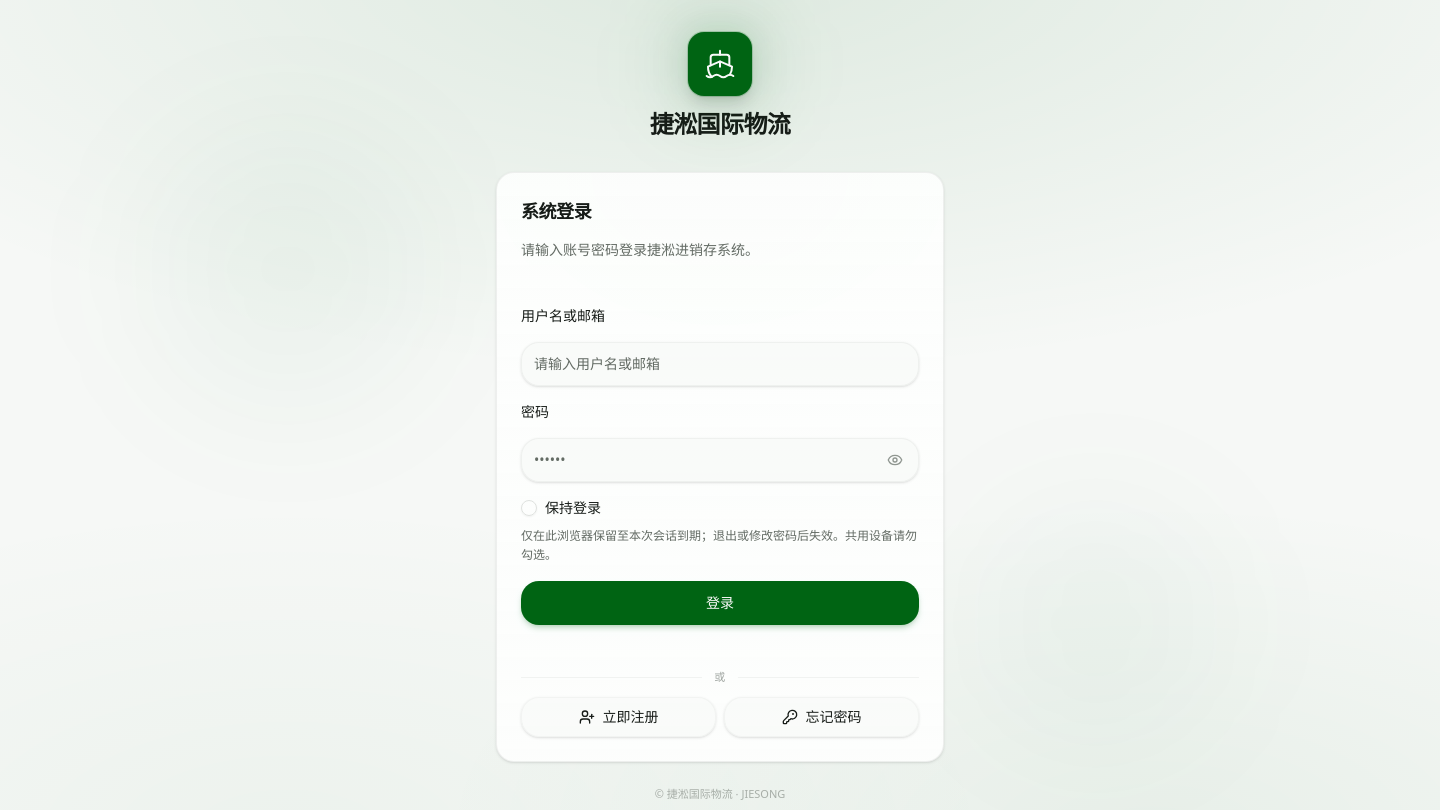
LoginPage 交互逻辑 › 后端连接失败时提示权威的 3001 端口
Expected: the button "登录" is enabled, [521,581,919,625]
Type "admin" into the field labelled "用户名或邮箱" at (720, 364), box [521,342,919,386]
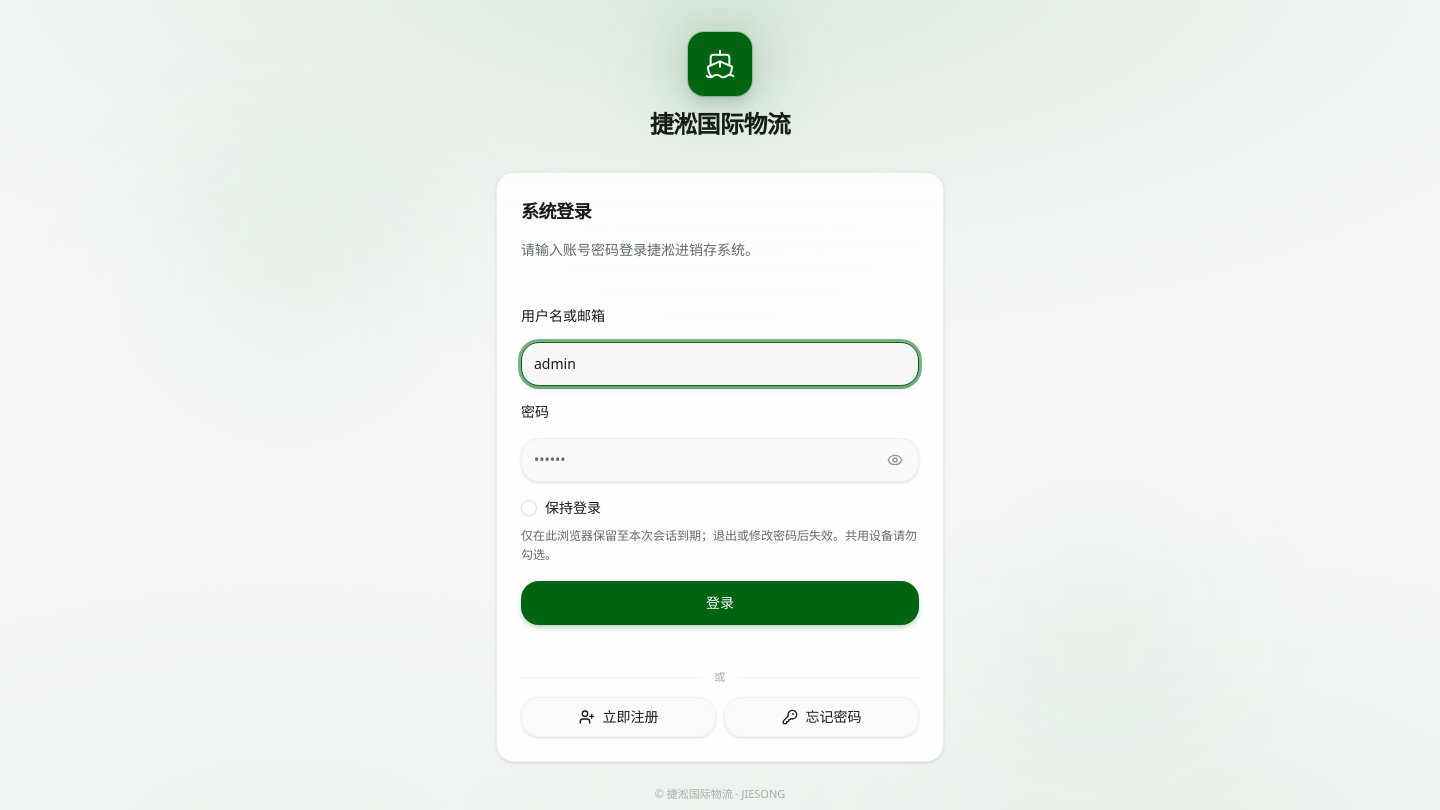
Type "123456" into the password field labelled "密码" at (720, 460), box [521,438,919,482]
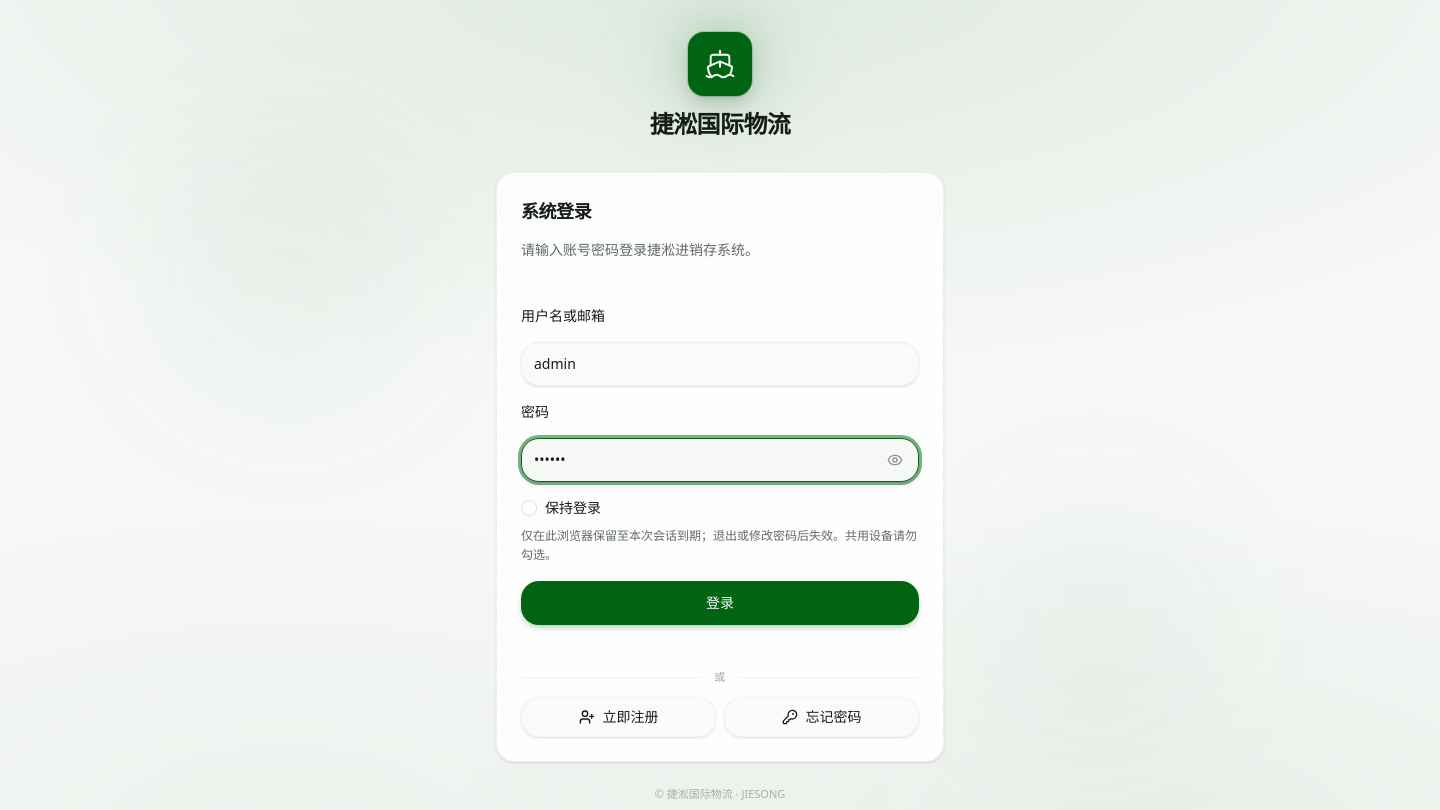
Click the button "登录" at (720, 603), box [521,581,919,625]
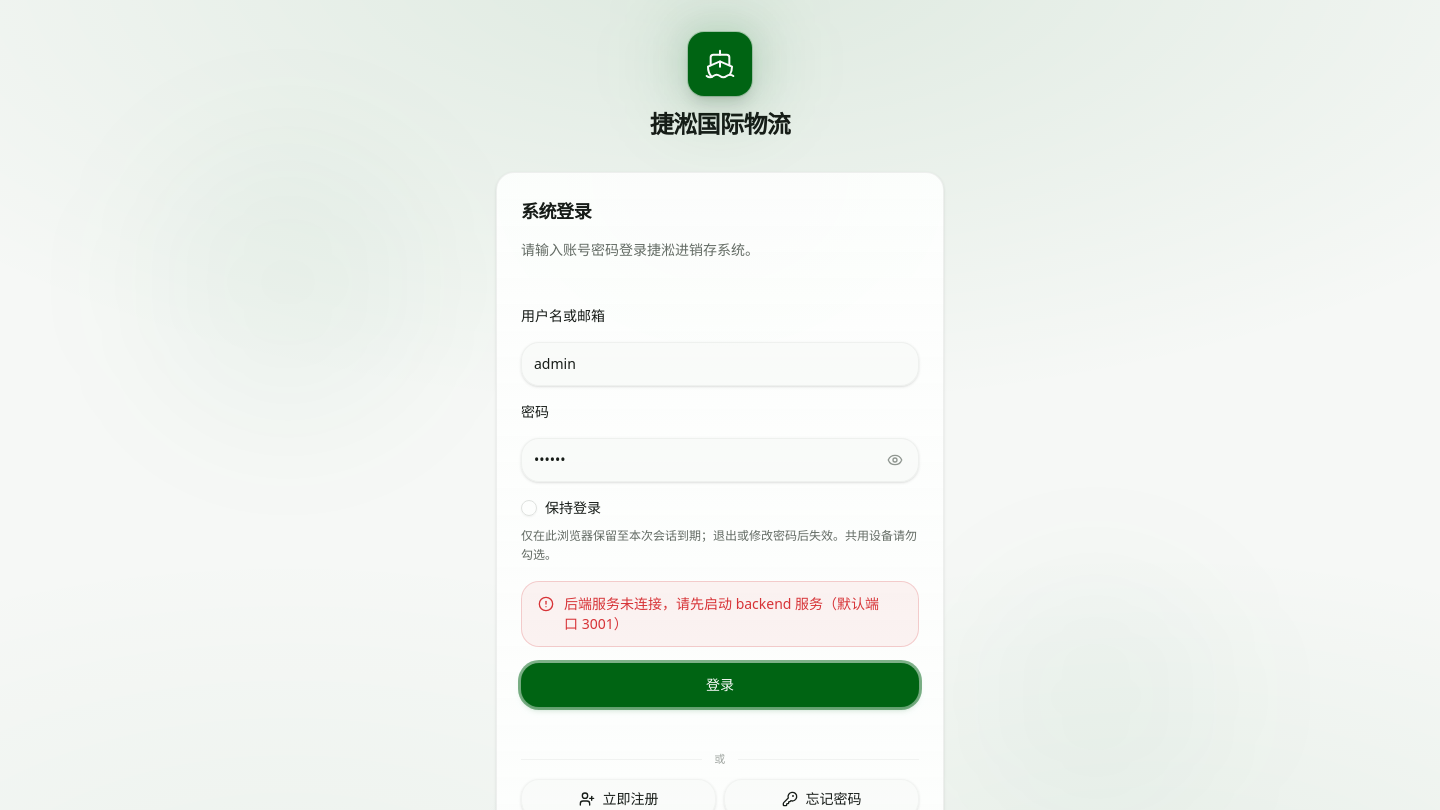
Now the text "后端服务未连接，请先启动 backend 服务（默认端口 3001）" is shown, box [564,594,902,634]
